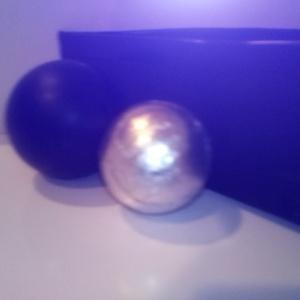alive_ball: (97, 98, 213, 214)
dead_ball: (5, 58, 127, 179)
